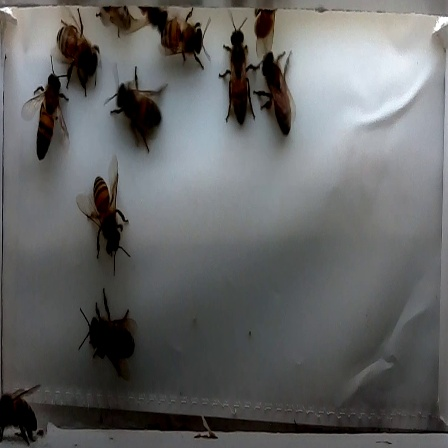bee: (64, 169, 142, 270), (99, 60, 170, 157), (65, 294, 144, 377), (20, 59, 76, 166), (249, 43, 303, 143), (215, 18, 261, 133), (47, 11, 103, 87), (155, 10, 212, 67), (1, 386, 51, 442)
